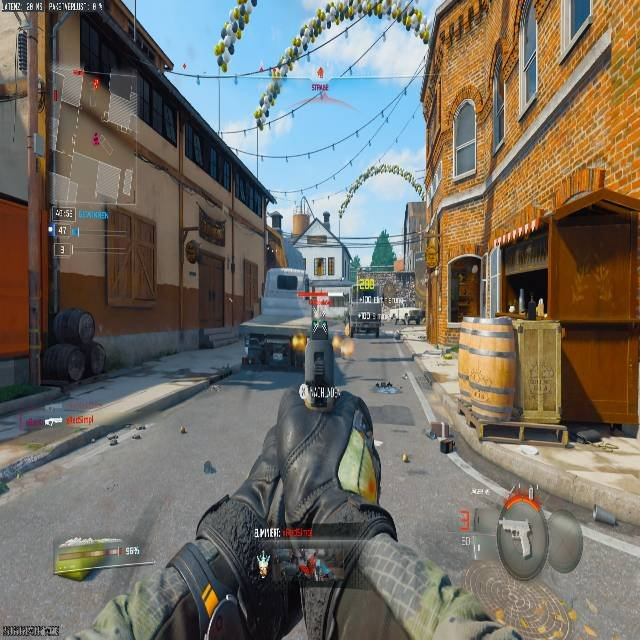player: (309, 313, 333, 354)
